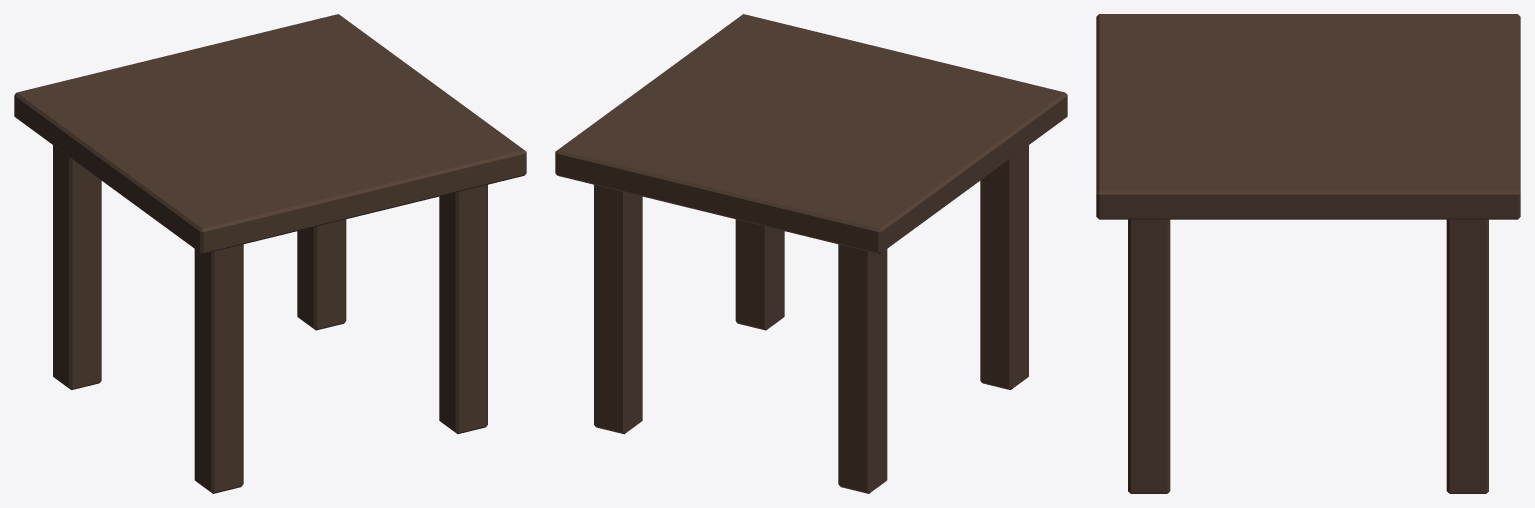
Rendered from TinyTable01.fbx.
The picture shows the model from 3 angles, left to right: view 1: azimuth 30°, elevation 25°; view 2: azimuth 150°, elevation 25°; view 3: azimuth 270°, elevation 25°; orthographic projection. The views are drawn at different scales.
Parts seen in each view (by area): view 1: Smol Table 1; view 2: Smol Table 1; view 3: Smol Table 1.
Boxes of the visible parts, x1=… form: Smol Table 1: x1=14, y1=14, x2=526, y2=493; Smol Table 1: x1=555, y1=14, x2=1067, y2=493; Smol Table 1: x1=1096, y1=14, x2=1520, y2=493.
Size of the model in its own units: 200 by 165 by 200.
